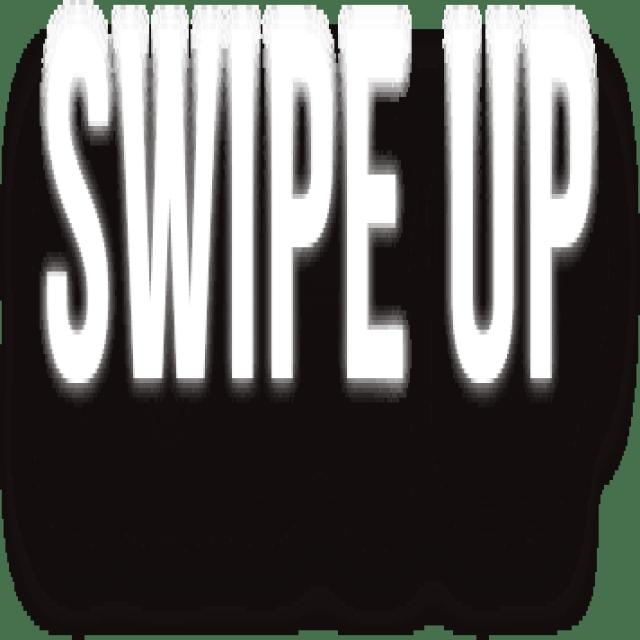Background Image: (0, 0, 636, 635)
Text Elements: (38, 0, 413, 398), (442, 0, 599, 393)
